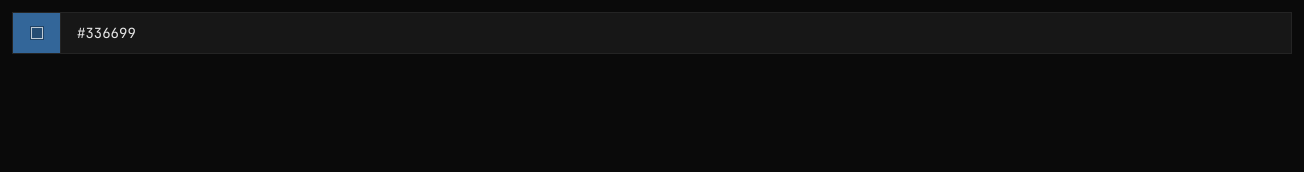
Scenario: ColorField › marks incomplete hex values invalid and restores the controlled color on blur
The image size is (1304, 172).
Replace the text in the field named "Hex color" with "#12" at (676, 33), box [61,13,1291,53]
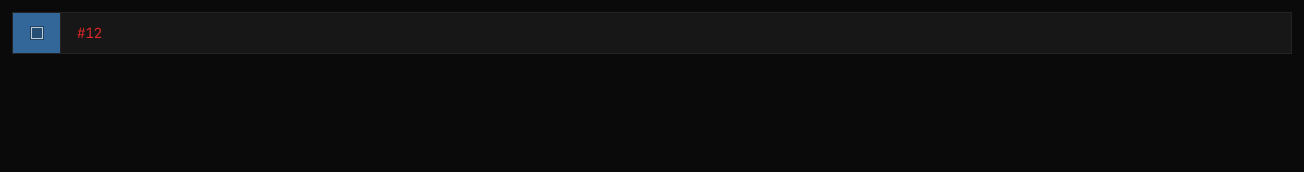
Expected: the field named "Hex color" is marked as invalid
Leave the field named "Hex color", box [61,13,1291,53]
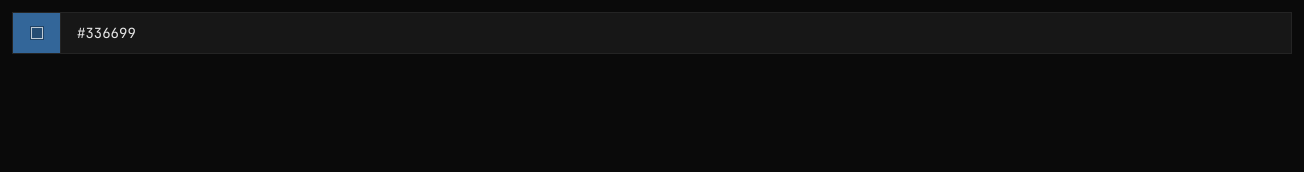
Expected: the field named "Hex color" holds "#336699", [61,13,1291,53]
